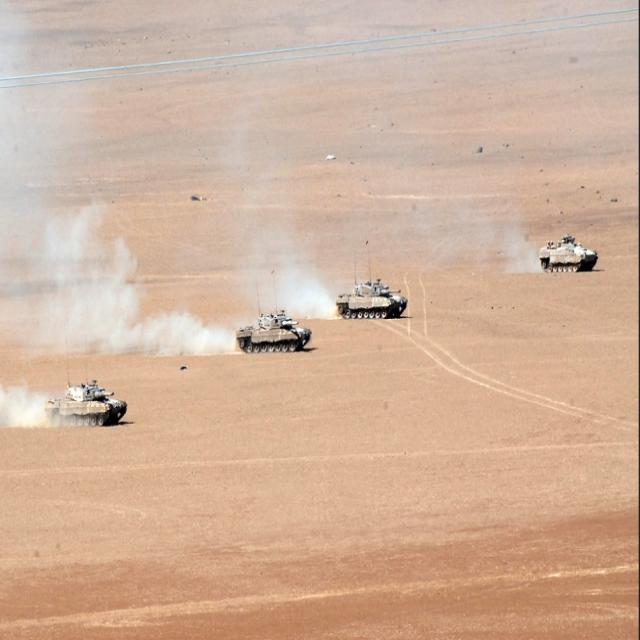tank: (45, 381, 128, 425), (335, 271, 409, 320), (235, 310, 312, 354), (538, 234, 601, 273)
